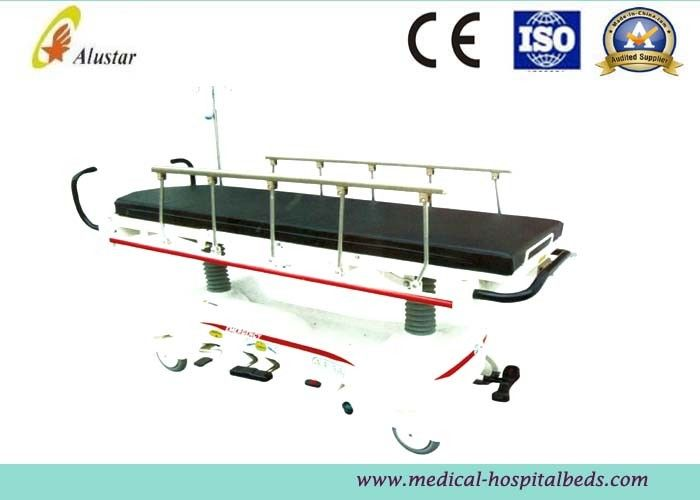trolley_bed: (67, 150, 582, 458)
